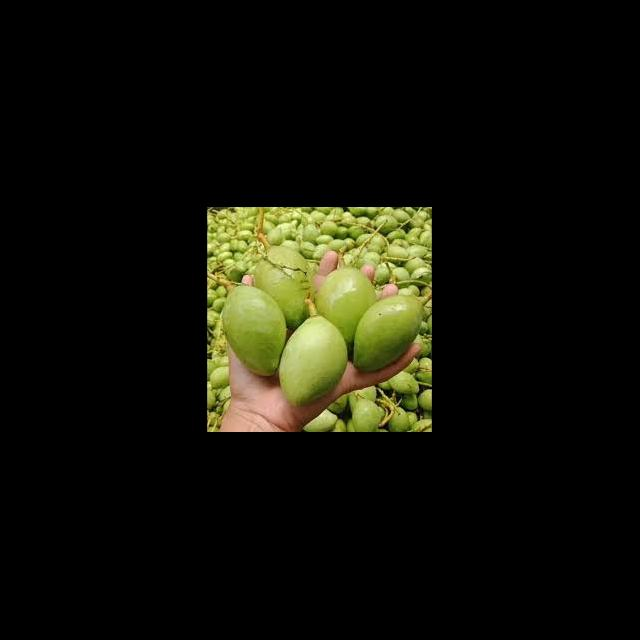xoai: (280, 310, 348, 410), (353, 290, 424, 384), (221, 286, 286, 375), (255, 247, 319, 328), (317, 268, 375, 347)
